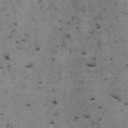oxide scale of temperature system: (0, 6, 128, 126), (6, 123, 10, 128)
